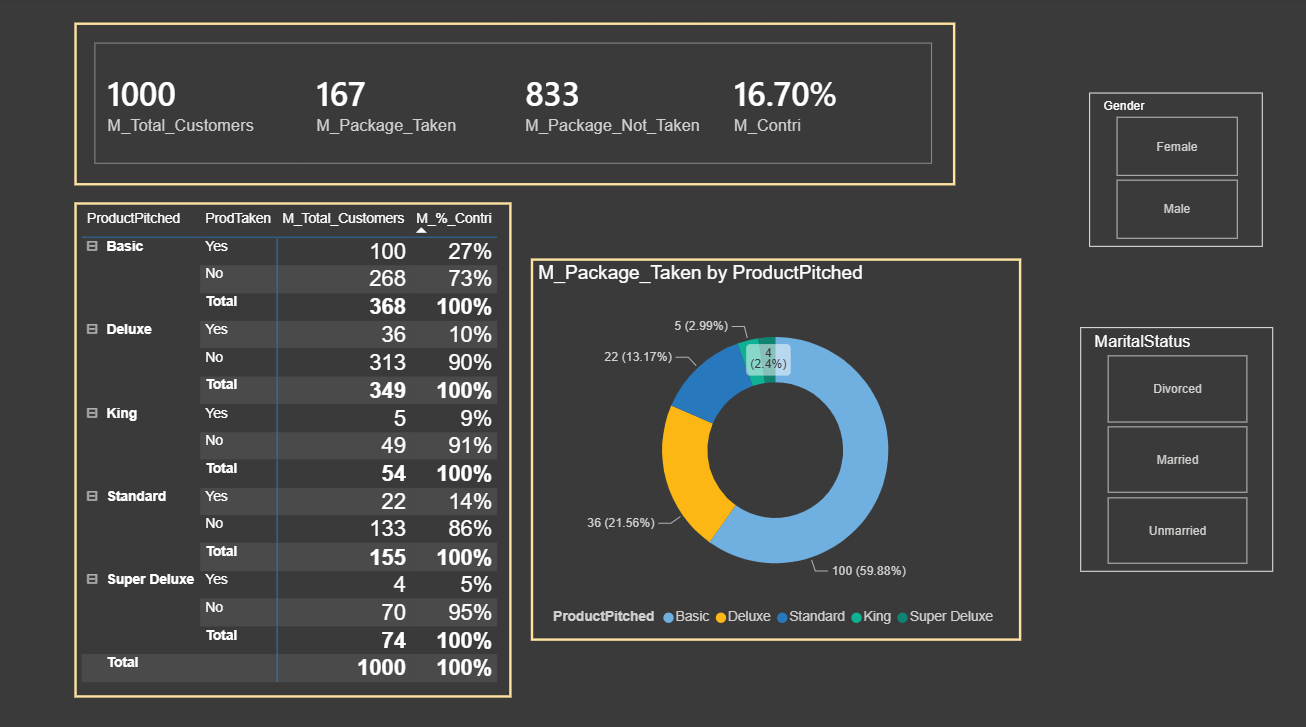

The dashboard page shown, as its layout file describes it:
{"tool":"powerbi","page":{"name":"Product Pitched","canvas":[1280,720],"ordinal":0},"visuals":[{"type":"cardVisual","fields":{"Data":["Tour_Data.M_Total_Customers","Tour_Data.M_Package_Taken","Tour_Data.M_Package_Not_Taken","Tour_Data.M_Percentage"]},"box":[78.1,24.8,856.2,158.8],"z":0},{"type":"pivotTable","fields":{"Rows":["Tour_Data.ProductPitched","Tour_Data.ProdTaken"],"Values":["Tour_Data.M_Total_Customers","Tour_Data.M_%_Contri"]},"box":[78.1,199.6,425,481.2],"z":1000},{"type":"donutChart","fields":{"Y":["Tour_Data.M_Package_Taken"],"Category":["Tour_Data.ProductPitched"]},"box":[521.8,254.1,477.2,371.8],"z":2000},{"type":"slicer","fields":{"Values":["Tour_Data.Gender"]},"box":[1064.7,93,168.8,150],"z":3000},{"type":"slicer","fields":{"Values":["Tour_Data.MaritalStatus"]},"box":[1056,321,187.2,238],"z":4000}]}

Visuals, with their boxes in screenshot pixels (x1, y1, x2, y2), scaled from the page's 1280x720 canvas onto the 1306x727 screenshot:
cardVisual - Tour_Data.M_Total_Customers x Tour_Data.M_Package_Taken: {"left": 80, "top": 25, "right": 953, "bottom": 185}
pivotTable - Tour_Data.ProductPitched x Tour_Data.ProdTaken: {"left": 80, "top": 202, "right": 513, "bottom": 687}
donutChart - Tour_Data.M_Package_Taken x Tour_Data.ProductPitched: {"left": 532, "top": 257, "right": 1019, "bottom": 632}
slicer - Tour_Data.Gender: {"left": 1086, "top": 94, "right": 1259, "bottom": 245}
slicer - Tour_Data.MaritalStatus: {"left": 1077, "top": 324, "right": 1268, "bottom": 564}
